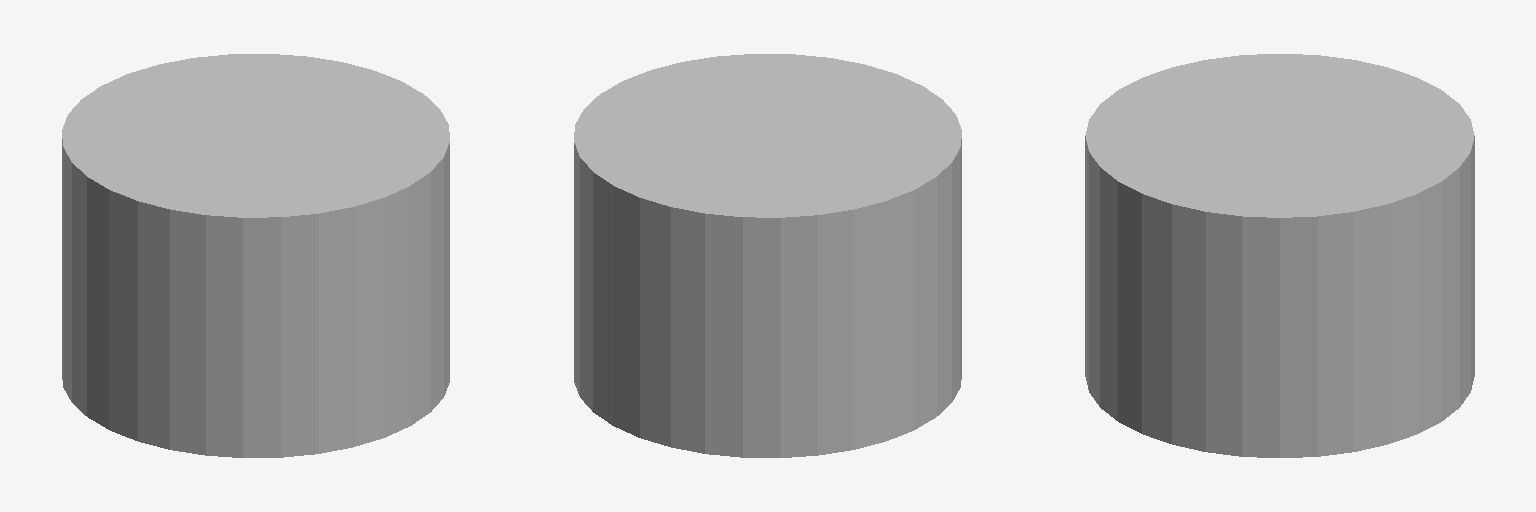
The model's file is finish.obj.
The picture shows the model from 3 angles: view 1: azimuth 30°, elevation 25°; view 2: azimuth 150°, elevation 25°; view 3: azimuth 270°, elevation 25°; orthographic projection.
Visible parts, largest first — view 1: Cylinder; view 2: Cylinder; view 3: Cylinder.
Boxes of the visible parts, x1=… form: Cylinder: x1=62, y1=54, x2=449, y2=457; Cylinder: x1=574, y1=54, x2=961, y2=457; Cylinder: x1=1085, y1=54, x2=1474, y2=457.
Size of the model in its own units: 1.62 by 1.11 by 1.62.